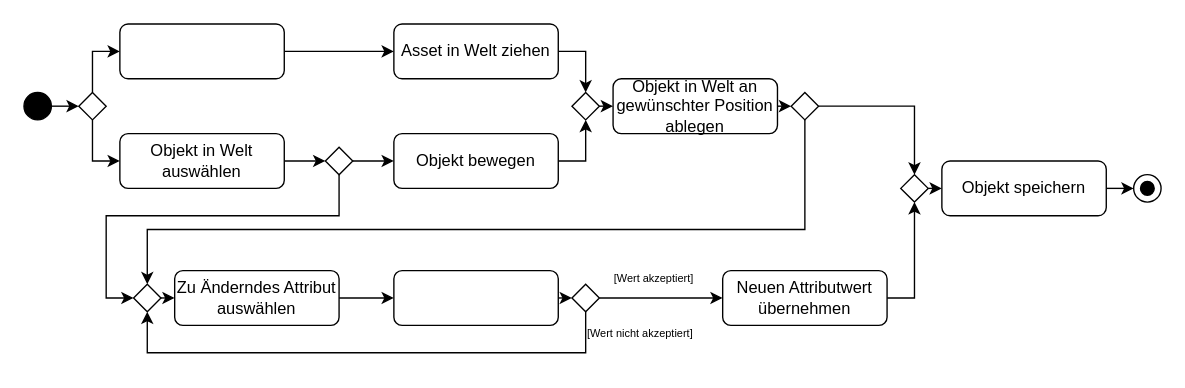
The diagram is 1185 pixels wide and 388 high, and some of its shapes have lost their labels. The shapes that lost their labels are listed below. From the top down, each one's centre as x and y in pixels, then its label:
At (201,51): "Asset auswählen".
At (475,297): "Neuen Attributwert eingeben".
